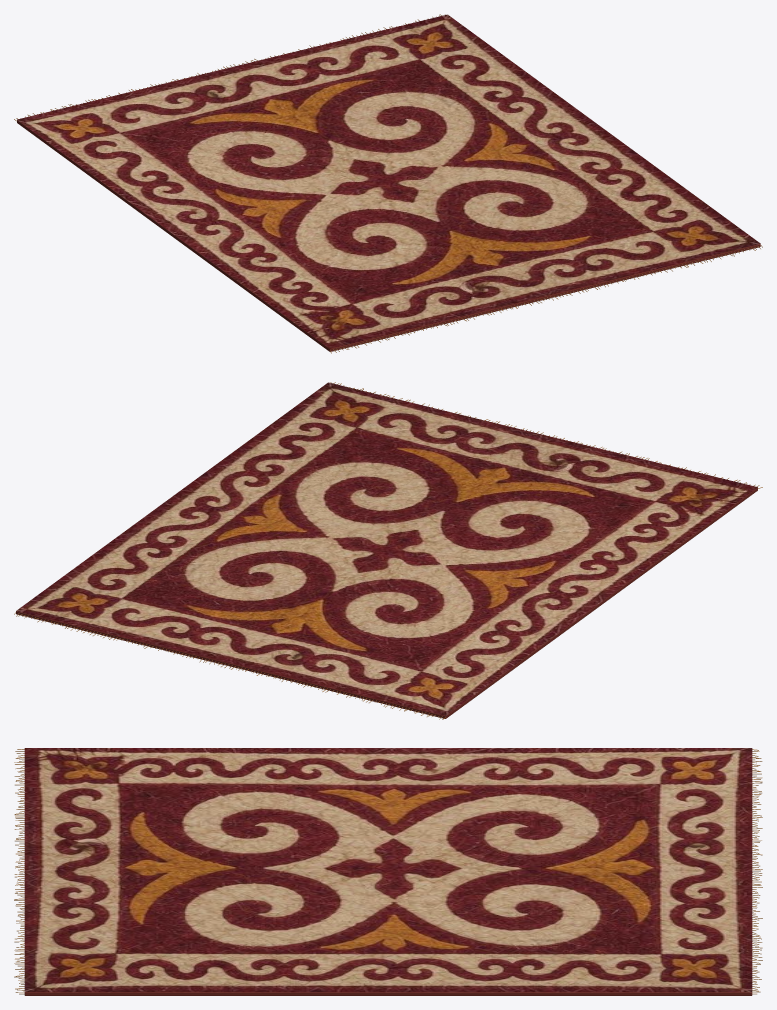
The model's file is shyrdak-floor-rug.glb.
3 renders of one model, top to bottom at view 1: azimuth 30°, elevation 25°; view 2: azimuth 150°, elevation 25°; view 3: azimuth 270°, elevation 25°, orthographic. The views are drawn at different scales.
Parts seen in each view (by area): view 1: Shyrdak floor rug; view 2: Shyrdak floor rug; view 3: Shyrdak floor rug.
Part boxes in pixels (x1=…): Shyrdak floor rug: x1=14, y1=14, x2=762, y2=353; Shyrdak floor rug: x1=14, y1=382, x2=762, y2=719; Shyrdak floor rug: x1=14, y1=748, x2=762, y2=995.
Size of the model in its own units: 2.83 by 0.021 by 3.65.
4 materials, 4 textured.
